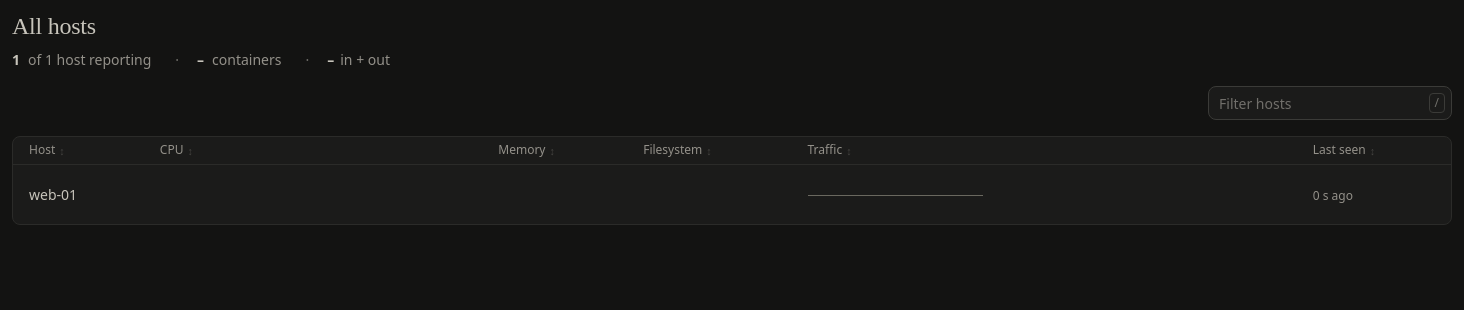
it: keyboard access › leaves / alone while something is already being typed into
Click the search field labelled "Filter hosts": x=1330, y=104 [1208,86,1452,120]
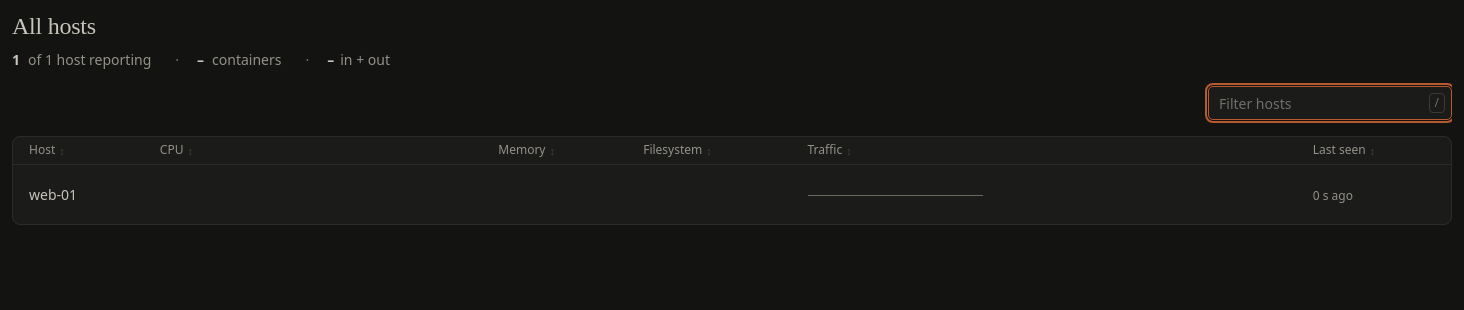
Type keys "var/log"
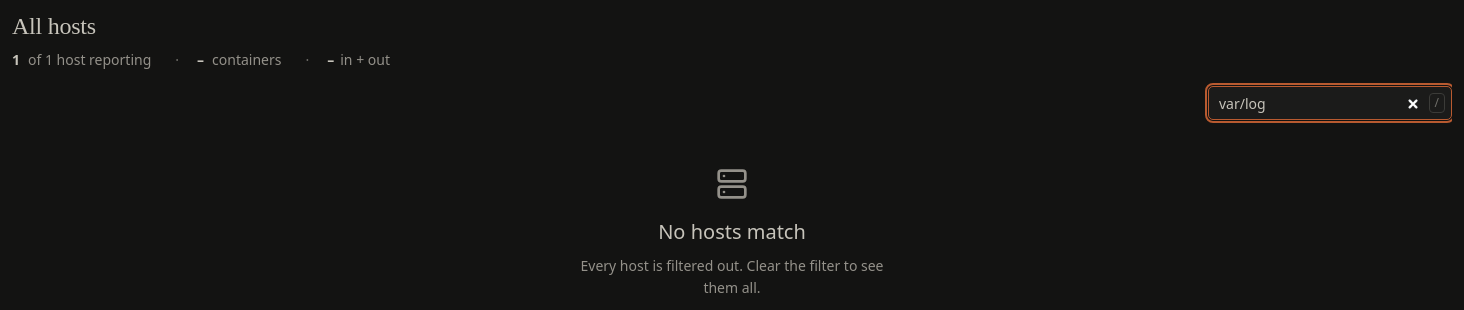
Now the search field named "Filter hosts" holds "var/log", box [1208,86,1452,120]
